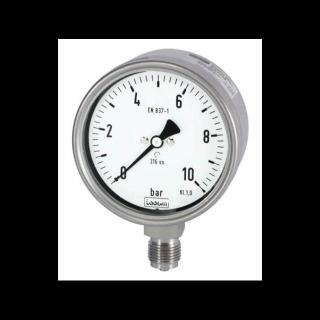gauge: (58, 39, 262, 248), (109, 166, 128, 186), (188, 174, 204, 190), (149, 134, 163, 148), (111, 178, 117, 184)
